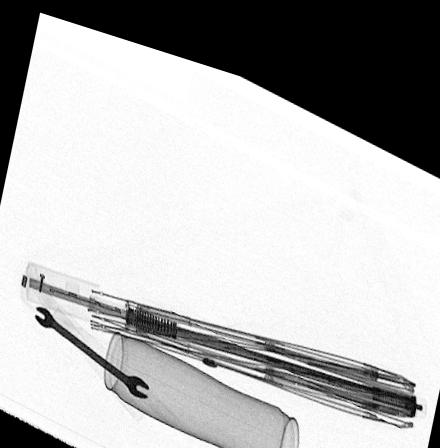Wrench: (31, 303, 151, 391)
